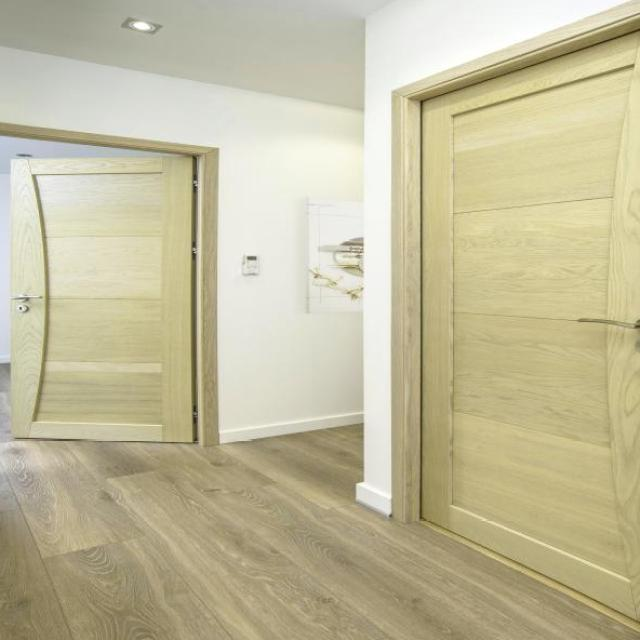door: (407, 13, 639, 627), (9, 152, 196, 443)
